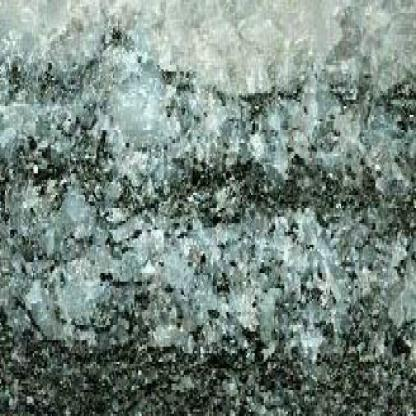Igneous_Diorite: (1, 0, 414, 414)
